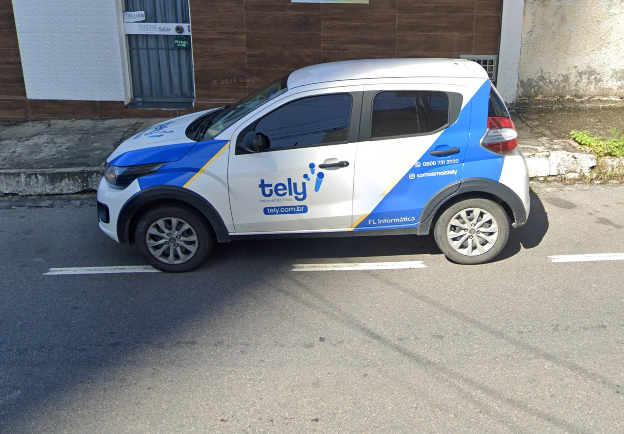car: (92, 52, 534, 276)
